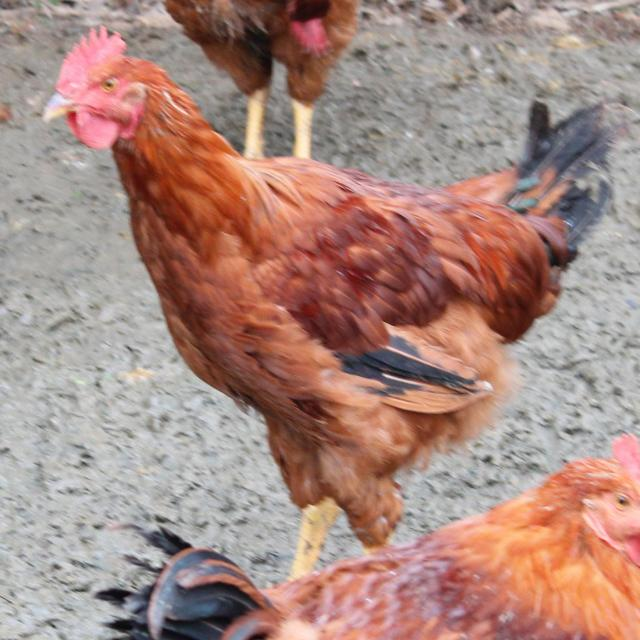cook: (0, 21, 624, 608)
